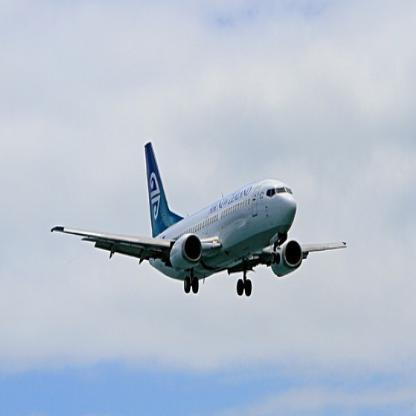CIV_Plane: (49, 139, 348, 297)
